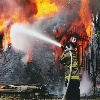fire: (1, 1, 94, 56)
